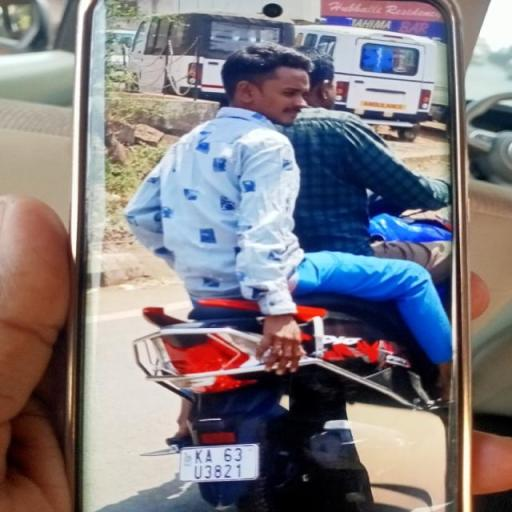bike: (109, 41, 449, 512)
numberplate: (182, 444, 254, 480)
withouthelmet: (221, 46, 309, 112)
